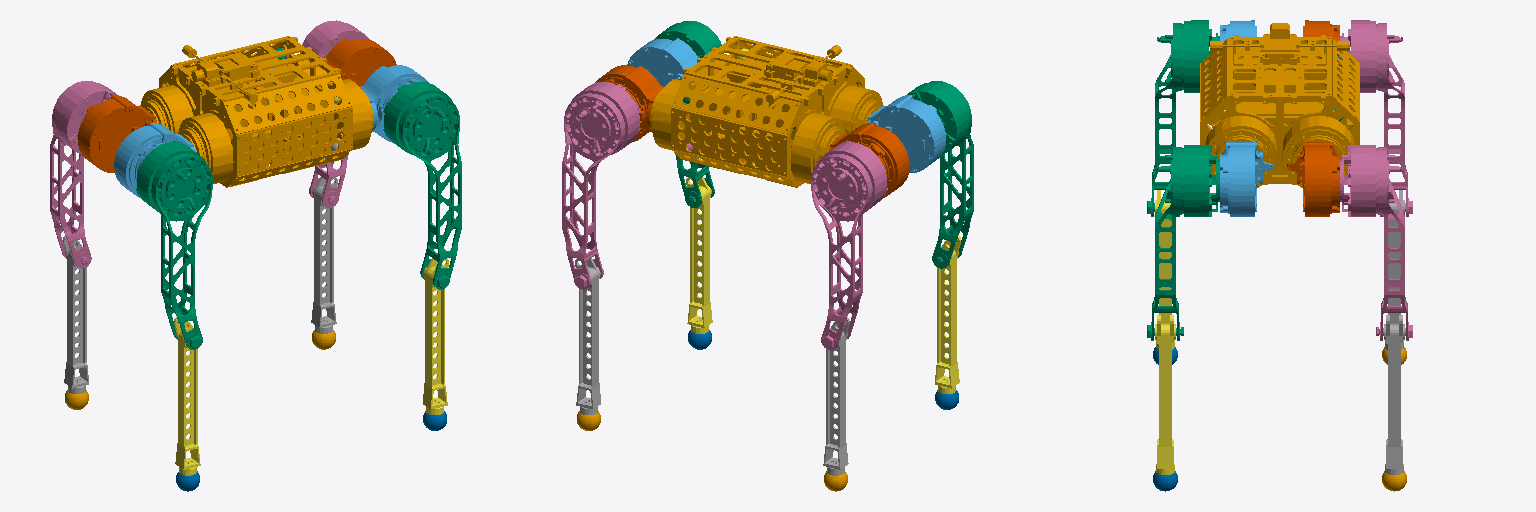
robot.urdf — robot:
<?xml version="1.0" encoding="utf-8"?>
<!-- This URDF was automatically created by SolidWorks to URDF Exporter! Originally created by [author] ([email redacted])
     Commit Version: 1.6.0-1-g15f4949  Build Version: 1.6.7594.29634
     For more information, please see http://wiki.ros.org/sw_urdf_exporter -->
<robot name="robot">
  <link name="body">
    <inertial>
      <origin xyz="0 0 0" rpy="0 0 0" />
      <mass value="5.759748808" />
      <inertia ixx="0.018914220659674" ixy="0" ixz="0"
        iyy="0.044772130588725" iyz="0" izz="0.052670277508692" />
    </inertial>
    <visual>
      <origin xyz="0 0 0" rpy="0 0 0" />
      <geometry>
        <mesh filename="meshes/body.STL"/>
      </geometry>
    </visual>
    <collision>
      <origin xyz="0 0 0" rpy="0 0 0" />
      <geometry>
        <mesh filename="meshes/body.STL"/>
      </geometry>
    </collision>
  </link>


  <!--!!!!!!!!!!!! Front Right Leg !!!!!!!!!!!!!!!!!!!!!!!!!!!!!!!!!!!!-->
  <link name="rf1">
    <inertial>
      <origin xyz="0.050813966714 0.000060533110 -0.003485784008" rpy="0 0 0" />
      <mass value="0.679697812" />
      <inertia ixx="0.000443058661539" ixy="-0.000001109650184" ixz="0.000006157383350"
        iyy="0.000498026538445" iyz="0.000000852511417" izz="0.000726566430948" />
    </inertial>
    <visual>
      <origin xyz="0 0 0" rpy="0 0 0" />
      <geometry>
        <mesh filename="meshes/rf1.STL" />
      </geometry>
    </visual>
    <collision>
      <origin xyz="0 0 0" rpy="0 0 0" />
      <geometry>
        <mesh filename="meshes/rf1.STL" />
      </geometry>
    </collision>
  </link>

  <joint name="rfjoint1" type="continuous">
    <origin xyz="0.1326 -0.049 0" rpy="-1.5708 0 0" />
    <parent link="body" />
    <child link="rf1" />
    <axis xyz="1 0 0" />
  </joint>

  <link name="rf2">
    <inertial>
      <origin xyz="0.041357821694 -0.001434049578 0.025938637371" rpy="0 0 0" />
      <mass value="0.953007111" />
      <inertia ixx="0.004510673821221" ixy="0.000044039609609" ixz="-0.000684645283926"
        iyy="0.004496442293817" iyz="0.000124878546196" izz="0.000782040598148" />
    </inertial>
    <visual>
      <origin xyz="0 0 0" rpy="0 0 0" />
      <geometry>
        <mesh filename="meshes/rf2.STL" />
      </geometry>
    </visual>
    <collision>
      <origin xyz="0 0 0" rpy="0 0 0" />
      <geometry>
        <mesh filename="meshes/rf2.STL" />
      </geometry>
    </collision>
  </link>

  <joint name="rfjoint2" type="continuous">
    <origin xyz="0.053 0 -0.0273" rpy="-1.5708 1.5708 0" />
    <parent link="rf1" />
    <child link="rf2" />
    <axis xyz="1 0 0" />
  </joint>

  <link name="rf3">
    <inertial>
      <origin xyz="0.013500041538 -0.000357486919 0.105642978108" rpy="0 0 0" />
      <mass value="0.101126826" />
      <inertia ixx="0.000624594596470" ixy="0.000000000006712" ixz="-0.000000000238118"
        iyy="0.000622367653807" iyz="-0.000004386948249" izz="0.000009078971542" />
    </inertial>
    <visual>
      <origin xyz="0 0 0" rpy="0 0 0" />
      <geometry>
        <mesh filename="meshes/rf3.STL" />
      </geometry>
    </visual>
    <collision>
      <origin xyz="0 0 0" rpy="0 0 0" />
      <geometry>
        <mesh filename="meshes/rf3.STL" />
      </geometry>
    </collision>
  </link>

  <joint name="rfjoint3" type="continuous">
    <origin xyz="0.05485 0 0.21" rpy="0 0 0" />
    <parent link="rf2" />
    <child link="rf3" />
    <axis xyz="1 0 0" />
  </joint>

  <link name="rf4">
    <contact>
      <friction_anchor/>
      <stiffness value="30000.0"/>
      <damping value="1000.0"/>
      <spinning_friction value="0.3"/>
      <lateral_friction value="1.2"/>
    </contact>
    <visual>
      <origin rpy="0 0 0" xyz="0 0 0"/>
      <geometry>
        <sphere radius="0.016"/>
      </geometry>
      <material name="darkgray"/>
    </visual>
    <collision>
      <origin rpy="0 0 0" xyz="0 0 0"/>
      <geometry>
        <sphere radius="0.016"/>
      </geometry>
    </collision>
    <inertial>
      <mass value="0"/>
      <inertia ixx="0" ixy="0" ixz="0" iyy="0" iyz="0" izz="0"/>
    </inertial>
  </link>

  <joint name="rfjoint4" type="fixed">
    <parent link="rf3"/>
    <child link="rf4"/>
    <origin xyz="0.0135 0 0.205"/>
    <dynamics damping="0.0" friction="0.0"/>
  </joint>


  <!--!!!!!!!!!!!! Front Left Leg !!!!!!!!!!!!!!!!!!!!!!!!!!!!!!!!!!!!-->
  <link name="lf1">
    <inertial>
      <origin xyz="0.050813966714 0.000060533110 -0.003485784008" rpy="0 0 0" />
      <mass value="0.679697812" />
      <inertia ixx="0.000443058661539" ixy="-0.000001109650184" ixz="0.000006157383350"
        iyy="0.000498026538445" iyz="0.000000852511417" izz="0.000726566430948" />
    </inertial>
    <visual>
      <origin xyz="0 0 0" rpy="0 0 0" />
      <geometry>
        <mesh filename="meshes/lf1.STL" />
      </geometry>
    </visual>
    <collision>
      <origin xyz="0 0 0" rpy="0 0 0" />
      <geometry>
        <mesh filename="meshes/lf1.STL" />
      </geometry>
    </collision>
  </link>

  <joint name="lfjoint1" type="continuous">
    <origin xyz="0.1326 0.049 0" rpy="1.5708 0 0" />
    <parent link="body" />
    <child link="lf1" />
    <axis xyz="1 0 0" />
  </joint>



  <link name="lf2">
    <inertial>
      <origin xyz="0.041357821694 -0.001434049578 -0.025938637371" rpy="0 0 0" />
      <mass value="0.953007111" />
      <inertia ixx="0.004510673821221" ixy="0.000044039609609" ixz="0.000684645283926"
        iyy="0.004496442293817" iyz="-0.000124878546196" izz="0.000782040598148" />
    </inertial>
    <visual>
      <origin xyz="0 0 0" rpy="0 0 0" />
      <geometry>
        <mesh filename="meshes/lf2.STL" />
      </geometry>
    </visual>
    <collision>
      <origin xyz="0 0 0" rpy="0 0 0" />
      <geometry>
        <mesh filename="meshes/lf2.STL" />
      </geometry>
    </collision>
  </link>

  <joint name="lfjoint2" type="continuous">
    <origin xyz="0.053 0 -0.0273" rpy="-1.5708 1.5708 0" />
    <parent link="lf1" />
    <child link="lf2" />
    <axis xyz="-1 0 0" />
  </joint>

  <link name="lf3">
    <inertial>
      <origin xyz="-0.013500041538 -0.000357486919 0.105642978108" rpy="0 0 0" />
      <mass value="0.101126826" />
      <inertia ixx="0.000624594596470" ixy="0.000000000006712" ixz="-0.000000000238118"
        iyy="0.000622367653807" iyz="-0.000004386948249" izz="0.000009078971542" />
    </inertial>
    <visual>
      <origin xyz="0 0 0" rpy="0 0 0" />
      <geometry>
        <mesh filename="meshes/lf3.STL" />
      </geometry>
    </visual>
    <collision>
      <origin
        xyz="0 0 0"
        rpy="0 0 0" />
      <geometry>
        <mesh
          filename="meshes/lf3.STL" />
      </geometry>
    </collision>
  </link>

  <joint name="lfjoint3" type="continuous">
    <origin xyz="0.05485 0 -0.21" rpy="3.1416 0 -3.1416" />
    <parent link="lf2" />
    <child link="lf3" />
    <axis xyz="1 0 0" />
  </joint>

  <link name="lf4">
    <contact>
      <friction_anchor/>
      <stiffness value="30000.0"/>
      <damping value="1000.0"/>
      <spinning_friction value="0.3"/>
      <lateral_friction value="1.2"/>
    </contact>
    <visual>
      <origin rpy="0 0 0" xyz="0 0 0"/>
      <geometry>
        <sphere radius="0.016"/>
      </geometry>
      <material name="darkgray"/>
    </visual>
    <collision>
      <origin rpy="0 0 0" xyz="0 0 0"/>
      <geometry>
        <sphere radius="0.016"/>
      </geometry>
    </collision>
    <inertial>
      <mass value="0"/>
      <inertia ixx="0" ixy="0" ixz="0" iyy="0" iyz="0" izz="0"/>
    </inertial>
  </link>

  <joint name="lfjoint4" type="fixed">
    <parent link="lf3"/>
    <child link="lf4"/>
    <origin xyz="-0.0135 0 0.205"/>
    <dynamics damping="0.0" friction="0.0"/>
  </joint>




  <!--!!!!!!!!!!!! Back Right Leg !!!!!!!!!!!!!!!!!!!!!!!!!!!!!!!!!!!!-->
  <link name="rb1">
    <inertial>
      <origin xyz="0.050813966714 0.000060533110 -0.003485784008" rpy="0 0 0" />
      <mass value="0.679697812" />
      <inertia ixx="0.000443058661539" ixy="-0.000001109650184" ixz="0.000006157383350"
        iyy="0.000498026538445" iyz="0.000000852511417" izz="0.000726566430948" />
    </inertial>
    <visual>
      <origin xyz="0 0 0" rpy="0 0 0" />
      <geometry>
        <mesh filename="meshes/rb1.STL" />
      </geometry>
    </visual>
    <collision>
      <origin xyz="0 0 0" rpy="0 0 0" />
      <geometry>
        <mesh filename="meshes/rb1.STL" />
      </geometry>
    </collision>
  </link>

  <joint name="rbjoint1" type="continuous">
    <origin xyz="-0.1326 -0.049 0" rpy="1.5707963267949 0 3.14159265358979" />
    <parent link="body" />
    <child link="rb1" />
    <axis xyz="-1 0 0" />
  </joint>

  <link name="rb2">
    <inertial>
      <origin xyz="0.041357821694 0.001434049578 0.025938637371" rpy="0 0 0" />
      <mass value="0.953007111" />
      <inertia ixx="0.004510673821221" ixy="-0.000044039609609" ixz="-0.000684645283926"
        iyy="0.004496442293817" iyz="-0.000124878546196" izz="0.000782040598148" />
    </inertial>
    <visual>
      <origin xyz="0 0 0" rpy="0 0 0" />
      <geometry>
        <mesh filename="meshes/rb2.STL" />
      </geometry>
    </visual>
    <collision>
      <origin xyz="0 0 0" rpy="0 0 0" />
      <geometry>
        <mesh filename="meshes/rb2.STL" />
      </geometry>
    </collision>
  </link>

  <joint name="rbjoint2" type="continuous">
    <origin xyz="0.053 0 -0.0273" rpy="1.5707963267949 1.5707963267949 0" />
    <parent link="rb1" />
    <child link="rb2" />
    <axis xyz="1 0 0" />
  </joint>

  <link name="rb3">
    <inertial>
      <origin xyz="-0.013500041538 0.000357486919 -0.105642978108" rpy="0 0 0" />
      <mass value="0.101126826" />
      <inertia ixx="0.000624594596470" ixy="-0.000000000006712" ixz="0.000000000238118"
        iyy="0.000622367653807" iyz="-0.000004386948249" izz="0.000009078971542" />
    </inertial>
    <visual>
      <origin xyz="0 0 0" rpy="0 0 0" />
      <geometry>
        <mesh filename="meshes/rb3.STL" />
      </geometry>
    </visual>
    <collision>
      <origin xyz="0 0 0" rpy="0 0 0" />
      <geometry>
        <mesh filename="meshes/rb3.STL" />
      </geometry>
    </collision>
  </link>

  <joint name="rbjoint3" type="continuous">
    <origin xyz="0.05485 0 0.21" rpy="3.1416 0 3.1416" />
    <parent link="rb2" />
    <child link="rb3" />
    <axis xyz="-1 0 0" />
  </joint>

  <link name="rb4">
    <contact>
      <friction_anchor/>
      <stiffness value="30000.0"/>
      <damping value="1000.0"/>
      <spinning_friction value="0.3"/>
      <lateral_friction value="1.2"/>
    </contact>
    <visual>
      <origin rpy="0 0 0" xyz="0 0 0"/>
      <geometry>
        <sphere radius="0.016"/>
      </geometry>
      <material name="darkgray"/>
    </visual>
    <collision>
      <origin rpy="0 0 0" xyz="0 0 0"/>
      <geometry>
        <sphere radius="0.016"/>
      </geometry>
    </collision>
    <inertial>
      <mass value="0"/>
      <inertia ixx="0" ixy="0" ixz="0" iyy="0" iyz="0" izz="0"/>
    </inertial>
  </link>

  <joint name="rbjoint4" type="fixed">
    <parent link="rb3"/>
    <child link="rb4"/>
    <origin xyz="-0.0135 0 -0.205"/>
    <dynamics damping="0.0" friction="0.0"/>
  </joint>


  <!--!!!!!!!!!!!! Back Left Leg !!!!!!!!!!!!!!!!!!!!!!!!!!!!!!!!!!!!-->
  <link name="lb1">
    <inertial>
      <origin xyz="0.050813966714 0.000060533110 -0.003485784008" rpy="0 0 0" />
      <mass value="0.679697812" />
      <inertia ixx="0.000443058661539" ixy="-0.000001109650184" ixz="0.000006157383350"
        iyy="0.000498026538445" iyz="0.000000852511417" izz="0.000726566430948" />
    </inertial>
    <visual>
      <origin xyz="0 0 0" rpy="0 0 0" />
      <geometry>
        <mesh filename="meshes/lb1.STL" />
      </geometry>
    </visual>
    <collision>
      <origin xyz="0 0 0" rpy="0 0 0" />
      <geometry>
        <mesh filename="meshes/lb1.STL" />
      </geometry>
    </collision>
  </link>

  <joint name="lbjoint1" type="continuous">
    <origin xyz="-0.1326 0.049 0" rpy="-1.5708 0 3.1416" />
    <parent link="body" />
    <child link="lb1" />
    <axis xyz="-1 0 0" />
  </joint>

  <link name="lb2">
    <inertial>
      <origin xyz="0.041357821694 -0.001434049578 0.025938637371" rpy="0 0 0" />
      <mass value="0.953007111" />
      <inertia ixx="0.004510673821221" ixy="0.000044039609609" ixz="-0.000684645283926"
        iyy="0.004496442293817" iyz="0.000124878546196" izz="0.000782040598148" />
    </inertial>
    <visual>
      <origin xyz="0 0 0" rpy="0 0 0" />
      <geometry>
        <mesh filename="meshes/lb2.STL" />
      </geometry>
    </visual>
    <collision>
      <origin xyz="0 0 0" rpy="0 0 0" />
      <geometry>
        <mesh filename="meshes/lb2.STL" />
      </geometry>
    </collision>
  </link>

  <joint name="lbjoint2" type="continuous">
    <origin xyz="0.053 0 -0.0273" rpy="-1.5708 1.5708 0" />
    <parent link="lb1" />
    <child link="lb2" />
    <axis xyz="-1 0 0" />
  </joint>

  <link name="lb3">
    <inertial>
      <origin xyz="0.013500041538 -0.000357486919 0.105642978108" rpy="0 0 0" />
      <mass value="0.101126826" />
      <inertia ixx="0.000624594596470" ixy="0.000000000006712" ixz="-0.000000000238118"
        iyy="0.000622367653807" iyz="-0.000004386948249" izz="0.000009078971542" />
    </inertial>
    <visual>
      <origin xyz="0 0 0" rpy="0 0 0" />
      <geometry>
        <mesh filename="meshes/lb3.STL" />
      </geometry>
    </visual>
    <collision>
      <origin xyz="0 0 0" rpy="0 0 0" />
      <geometry>
        <mesh filename="meshes/lb3.STL" />
      </geometry>
    </collision>
  </link>

  <joint name="lbjoint3" type="continuous">
    <origin xyz="0.05485 0 0.21" rpy="0 0 0" />
    <parent link="lb2" />
    <child link="lb3" />
    <axis xyz="-1 0 0" />
  </joint>

  <link name="lb4">
    <contact>
      <friction_anchor/>
      <stiffness value="30000.0"/>
      <damping value="1000.0"/>
      <spinning_friction value="0.3"/>
      <lateral_friction value="1.2"/>
    </contact>
    <visual>
      <origin rpy="0 0 0" xyz="0 0 0"/>
      <geometry>
        <sphere radius="0.016"/>
      </geometry>
      <material name="darkgray"/>
    </visual>
    <collision>
      <origin rpy="0 0 0" xyz="0 0 0"/>
      <geometry>
        <sphere radius="0.016"/>
      </geometry>
    </collision>
    <inertial>
      <mass value="0"/>
      <inertia ixx="0" ixy="0" ixz="0" iyy="0" iyz="0" izz="0"/>
    </inertial>
  </link>

  <joint name="lbjoint4" type="fixed">
    <parent link="lb3"/>
    <child link="lb4"/>
    <origin xyz="0.0135 0 0.205"/>
    <dynamics damping="0.0" friction="0.0"/>
  </joint>


    <link name="imu">
      <visual>
        <origin rpy="0 0 0" xyz="0 0 0"/>
        <geometry>
          <sphere radius="0.01"/>
        </geometry>
        <material name="darkgray"/>
      </visual>

      <inertial>
        <mass value="0"/>
        <inertia ixx="0" ixy="0" ixz="0" iyy="0" iyz="0" izz="0"/>
      </inertial>
    </link>

    <joint name="imujoint" type="fixed">
      <parent link="body"/>
      <child link="imu"/>
      <origin xyz="0.0196 0 0.05945"/>
    </joint>

    <link name="point_lfu">
      <visual>
        <origin rpy="0 0 0" xyz="0 0 0"/>
        <geometry>
          <sphere radius="0.01"/>
        </geometry>
        <material name="darkgray"/>
      </visual>

      <inertial>
        <mass value="0.35736635975"/>
        <inertia ixx="0.000016148276679" ixy="0" ixz="0" iyy="0.000016148276679" iyz="0" izz="0.000016148276679"/>
      </inertial>
    </link>

    <joint name="point_lfu_joint" type="fixed">
      <parent link="body"/>
      <child link="point_lfu"/>
      <origin xyz="0.0775 0.071875 0.043625"/>
    </joint>

    <link name="point_rfu">
      <visual>
        <origin rpy="0 0 0" xyz="0 0 0"/>
        <geometry>
          <sphere radius="0.01"/>
        </geometry>
        <material name="darkgray"/>
      </visual>

      <inertial>
        <mass value="0.35736635975"/>
        <inertia ixx="0.000016148276679" ixy="0" ixz="0" iyy="0.000016148276679" iyz="0" izz="0.000016148276679"/>
      </inertial>
    </link>

    <joint name="point_rfu_joint" type="fixed">
      <parent link="body"/>
      <child link="point_rfu"/>
      <origin xyz="0.0775 -0.071875 0.043625"/>
    </joint>

    <link name="point_lbu">
      <visual>
        <origin rpy="0 0 0" xyz="0 0 0"/>
        <geometry>
          <sphere radius="0.01"/>
        </geometry>
        <material name="darkgray"/>
      </visual>

      <inertial>
        <mass value="0.35736635975"/>
        <inertia ixx="0.000016148276679" ixy="0" ixz="0" iyy="0.000016148276679" iyz="0" izz="0.000016148276679"/>
      </inertial>
    </link>

    <joint name="point_lbu_joint" type="fixed">
      <parent link="body"/>
      <child link="point_lbu"/>
      <origin xyz="-0.0775 0.071875 0.043625"/>
    </joint>

    <link name="point_rbu">
      <visual>
        <origin rpy="0 0 0" xyz="0 0 0"/>
        <geometry>
          <sphere radius="0.01"/>
        </geometry>
        <material name="darkgray"/>
      </visual>

      <inertial>
        <mass value="0.35736635975"/>
        <inertia ixx="0.000016148276679" ixy="0" ixz="0" iyy="0.000016148276679" iyz="0" izz="0.000016148276679"/>
      </inertial>
    </link>

    <joint name="point_rbu_joint" type="fixed">
      <parent link="body"/>
      <child link="point_rbu"/>
      <origin xyz="-0.0775 -0.071875 0.043625"/>
    </joint>

    <link name="point_lfd">
      <visual>
        <origin rpy="0 0 0" xyz="0 0 0"/>
        <geometry>
          <sphere radius="0.01"/>
        </geometry>
        <material name="darkgray"/>
      </visual>

      <inertial>
        <mass value="0.35736635975"/>
        <inertia ixx="0.000016148276679" ixy="0" ixz="0" iyy="0.000016148276679" iyz="0" izz="0.000016148276679"/>
      </inertial>
    </link>

    <joint name="point_lfd_joint" type="fixed">
      <parent link="body"/>
      <child link="point_lfd"/>
      <origin xyz="0.0775 0.0780392 -0.0247892"/>
    </joint>

    <link name="point_rfd">
      <visual>
        <origin rpy="0 0 0" xyz="0 0 0"/>
        <geometry>
          <sphere radius="0.01"/>
        </geometry>
        <material name="darkgray"/>
      </visual>

      <inertial>
        <mass value="0.35736635975"/>
        <inertia ixx="0.000016148276679" ixy="0" ixz="0" iyy="0.000016148276679" iyz="0" izz="0.000016148276679"/>
      </inertial>
    </link>

    <joint name="point_rfd_joint" type="fixed">
      <parent link="body"/>
      <child link="point_rfd"/>
      <origin xyz="0.0775 -0.0780392 -0.0247892"/>
    </joint>

    <link name="point_lbd">
      <visual>
        <origin rpy="0 0 0" xyz="0 0 0"/>
        <geometry>
          <sphere radius="0.01"/>
        </geometry>
        <material name="darkgray"/>
      </visual>

      <inertial>
        <mass value="0.35736635975"/>
        <inertia ixx="0.000016148276679" ixy="0" ixz="0" iyy="0.000016148276679" iyz="0" izz="0.000016148276679"/>
      </inertial>
    </link>

    <joint name="point_lbd_joint" type="fixed">
      <parent link="body"/>
      <child link="point_lbd"/>
      <origin xyz="-0.0775 0.0780392 -0.0247892"/>
    </joint>

    <link name="point_rbd">
      <visual>
        <origin rpy="0 0 0" xyz="0 0 0"/>
        <geometry>
          <sphere radius="0.01"/>
        </geometry>
        <material name="darkgray"/>
      </visual>

      <inertial>
        <mass value="0.35736635975"/>
        <inertia ixx="0.000016148276679" ixy="0" ixz="0" iyy="0.000016148276679" iyz="0" izz="0.000016148276679"/>
      </inertial>
    </link>

    <joint name="point_rbd_joint" type="fixed">
      <parent link="body"/>
      <child link="point_rbd"/>
      <origin xyz="-0.0775 -0.0780392 -0.0247892"/>
    </joint>

</robot>

--- Render facts (derived) ---
Views: 3 orthographic renders of the robot side by side, from view 1: azimuth 30°, elevation 25°; view 2: azimuth 150°, elevation 25°; view 3: azimuth 270°, elevation 25°.
Robot: robot — 26 links, 25 joints (12 continuous, 13 fixed); root link body; default pose: all joints at 0.
Links seen in each view (by area): view 1: body, rf2, rb2, lb2, lb1, lf3, rf3, lb3, rb3, lf2, rb1, lf1 (+1 smaller); view 2: body, lf2, lb2, rb2, rb1, rf3, lf3, rb3, lb3, rf2, lb1, rf1 (+1 smaller); view 3: body, rf2, lf2, lb2, rb2, rf1, lf1, rf3, lf3, rb3, lb3, rb1 (+1 smaller).
Boxes of the visible links, x1=… form: body: x1=140, y1=36, x2=373, y2=187; rf2: x1=383, y1=82, x2=461, y2=289; rb2: x1=136, y1=141, x2=212, y2=349; lb2: x1=50, y1=81, x2=116, y2=268; lb1: x1=78, y1=95, x2=156, y2=172; lf3: x1=311, y1=171, x2=337, y2=333; rf3: x1=423, y1=258, x2=448, y2=414; lb3: x1=63, y1=235, x2=88, y2=393; rb3: x1=174, y1=317, x2=200, y2=475; lf2: x1=300, y1=20, x2=369, y2=207; rb1: x1=114, y1=123, x2=195, y2=197; lf1: x1=326, y1=38, x2=396, y2=86; body: x1=650, y1=36, x2=883, y2=187; lf2: x1=562, y1=82, x2=640, y2=289; lb2: x1=811, y1=141, x2=887, y2=349; rb2: x1=907, y1=81, x2=973, y2=268; rb1: x1=867, y1=95, x2=945, y2=172; rf3: x1=686, y1=171, x2=712, y2=333; lf3: x1=575, y1=258, x2=600, y2=414; rb3: x1=935, y1=235, x2=960, y2=393; lb3: x1=823, y1=317, x2=849, y2=475; rf2: x1=654, y1=21, x2=723, y2=207; lb1: x1=828, y1=123, x2=909, y2=197; rf1: x1=627, y1=38, x2=698, y2=86; body: x1=1200, y1=23, x2=1359, y2=187; rf2: x1=1147, y1=145, x2=1219, y2=340; lf2: x1=1340, y1=145, x2=1412, y2=340; lb2: x1=1340, y1=20, x2=1412, y2=216; rb2: x1=1147, y1=20, x2=1219, y2=216; rf1: x1=1220, y1=142, x2=1272, y2=216; lf1: x1=1287, y1=142, x2=1339, y2=216; rf3: x1=1155, y1=315, x2=1175, y2=474; lf3: x1=1384, y1=315, x2=1404, y2=474; rb3: x1=1155, y1=190, x2=1174, y2=349; lb3: x1=1385, y1=190, x2=1404, y2=349; rb1: x1=1220, y1=20, x2=1256, y2=41.
Bounding box of the posed robot: 0.4632 × 0.3363 × 0.5263 m (x, y, z).
Meshes: 13 distinct files referenced, 13 mesh visuals loaded (13 binary STL).
